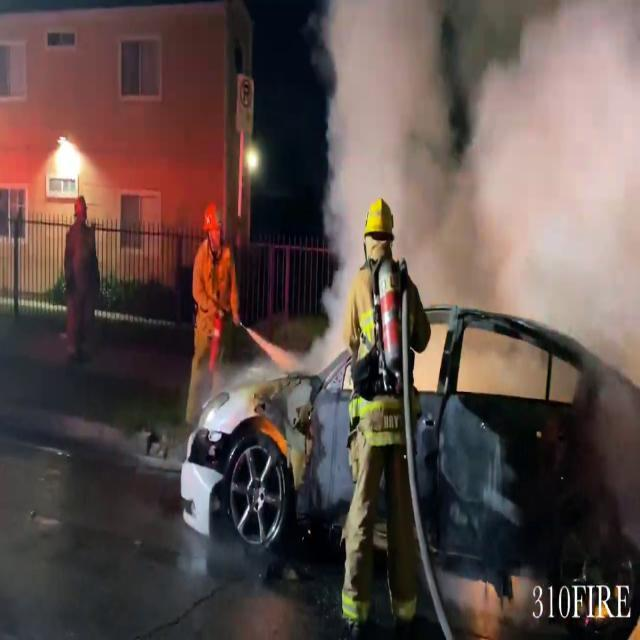Smoke: (309, 1, 640, 353)
